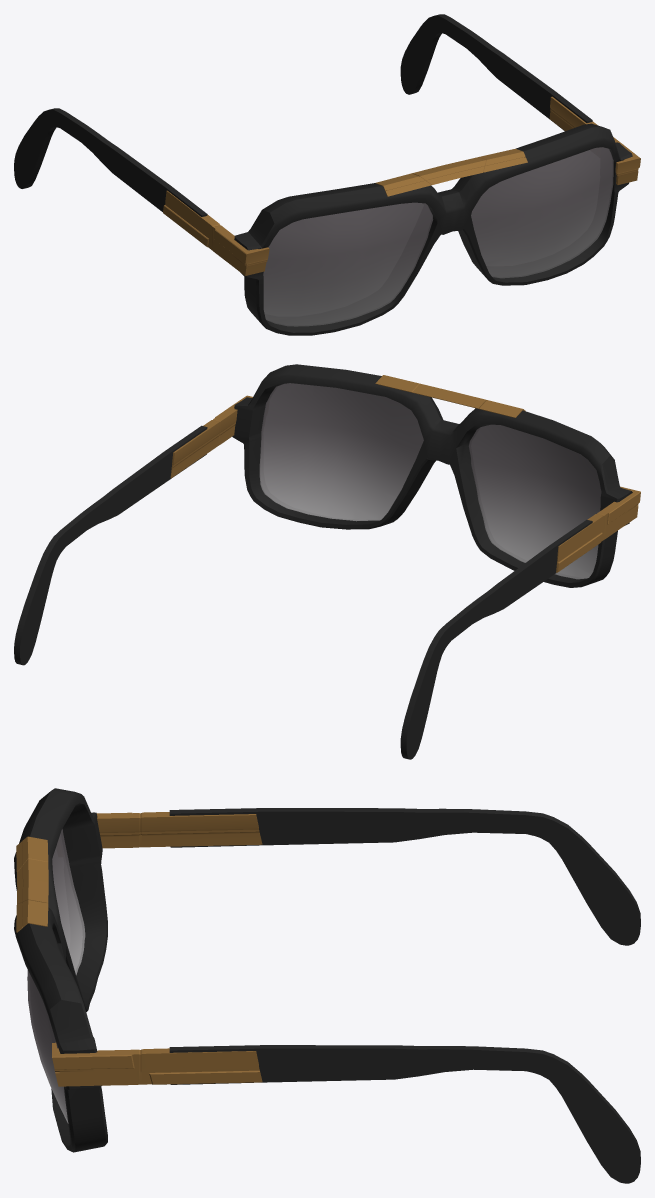
The model's file is premium.glb.
3 renders of one model, top to bottom at view 1: azimuth 30°, elevation 25°; view 2: azimuth 150°, elevation 25°; view 3: azimuth 270°, elevation 25°, orthographic. The views are drawn at different scales.
Parts seen in each view (by area): view 1: Lens_3_11, Frame_0_4, Temples_1_6, Bridge_2_9; view 2: Lens_3_11, Frame_0_4, Temples_1_6, Bridge_2_9; view 3: Temples_1_6, Frame_0_4, Lens_3_11, Bridge_2_9.
Boxes of the visible parts, bbox=[...] form: Lens_3_11: bbox=[263, 147, 613, 326]; Frame_0_4: bbox=[234, 123, 632, 335]; Temples_1_6: bbox=[14, 14, 640, 275]; Bridge_2_9: bbox=[375, 148, 527, 196]; Lens_3_11: bbox=[259, 383, 601, 579]; Frame_0_4: bbox=[232, 364, 632, 587]; Temples_1_6: bbox=[14, 395, 640, 759]; Bridge_2_9: bbox=[375, 375, 525, 417]; Temples_1_6: bbox=[52, 808, 640, 1183]; Frame_0_4: bbox=[14, 788, 107, 1152]; Lens_3_11: bbox=[27, 829, 85, 1123]; Bridge_2_9: bbox=[16, 836, 48, 932].
Bounding box in the file's own units: 6.53 × 2.34 × 7.11.
3 materials, 1 textured.
